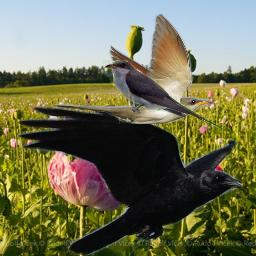Crow: (15, 102, 246, 255)
Cuckoo: (53, 14, 211, 124), (103, 60, 222, 132)
